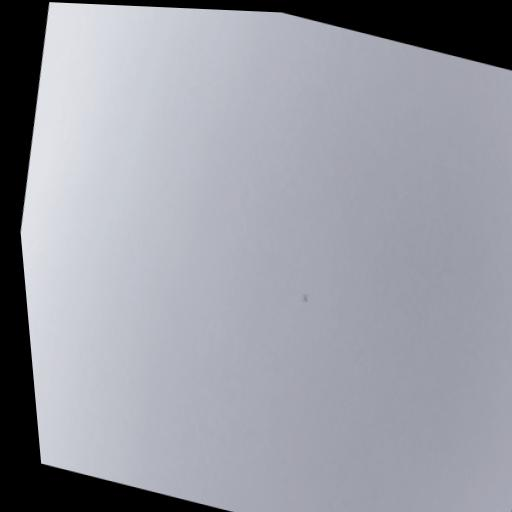drones: (296, 288, 314, 310)
